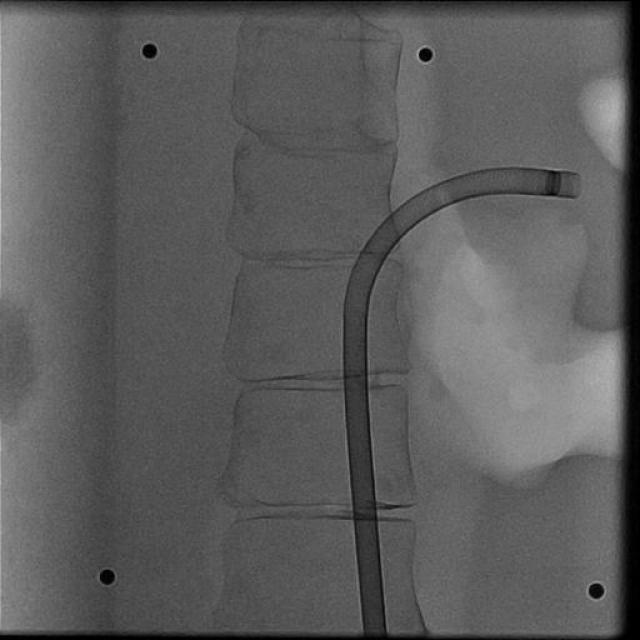bend: (346, 303, 366, 316)
entry: (364, 627, 386, 636)
marker: (546, 170, 562, 196)
tip: (572, 174, 582, 196)
